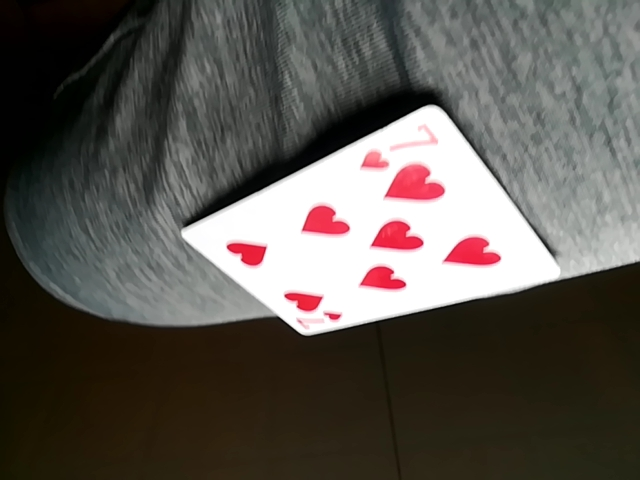hx 7: (179, 99, 562, 339)
